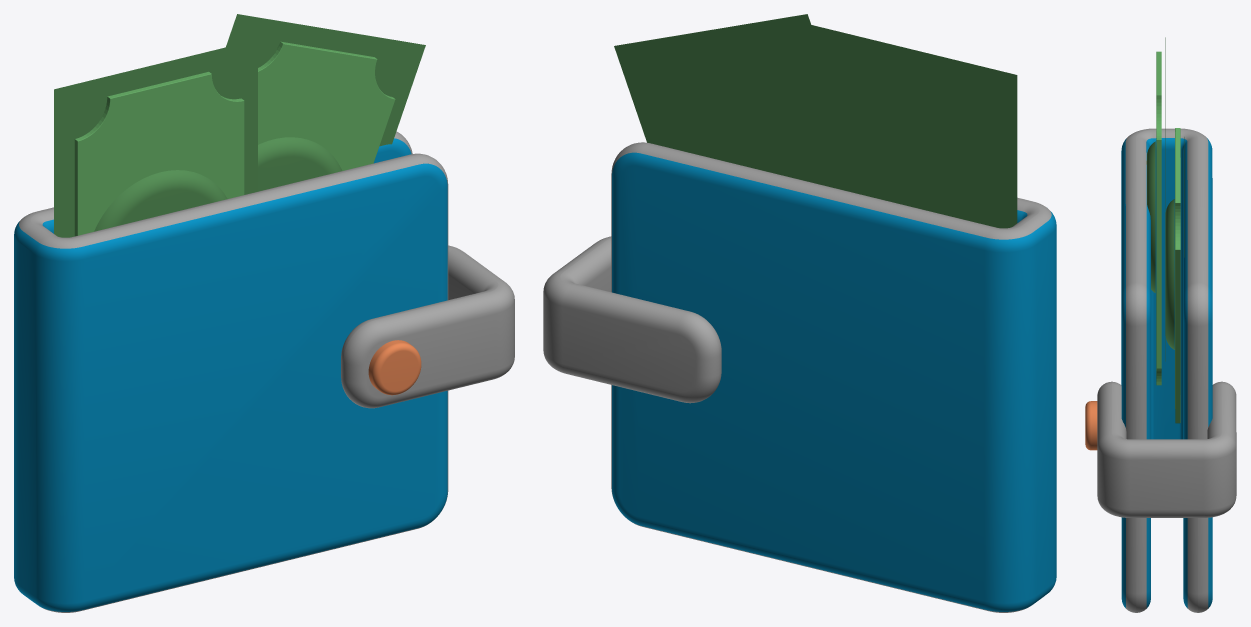
The model's file is wallet-3d-animated-model-97959620543.glb.
3 views of the same model, side by side, from view 1: azimuth 30°, elevation 25°; view 2: azimuth 150°, elevation 25°; view 3: azimuth 270°, elevation 25° (orthographic). The views are drawn at different scales.
Visible parts, largest first — view 1: Cube.040, Cylinder.034, Cylinder.001, Cube.041, Cylinder.035, Cylinder.002, Cylinder.033; view 2: Cube.040, Cylinder.002, Cylinder.001, Cube.041; view 3: Cube.040, Cube.041, Cylinder.034, Cylinder.035, Cylinder.002, Cylinder.001, Cylinder.033.
Part boxes in pixels (x1,y1,x2,y2): Cube.040: (14,131,448,612); Cylinder.034: (74,71,244,236); Cylinder.001: (54,39,257,237); Cube.041: (341,245,514,408); Cylinder.035: (258,41,395,170); Cylinder.002: (226,14,425,191); Cylinder.033: (368,340,421,395); Cube.040: (611,142,1056,612); Cylinder.002: (614,14,869,196); Cylinder.001: (811,25,1017,228); Cube.041: (543,236,721,403); Cube.040: (1121,128,1212,612); Cube.041: (1097,381,1236,517); Cylinder.034: (1156,51,1161,385); Cylinder.035: (1175,128,1180,423); Cylinder.002: (1165,137,1184,349); Cylinder.001: (1146,37,1165,361); Cylinder.033: (1085,401,1097,450).
Bounding box in the file's own units: 1.48 × 1.62 × 0.4761.
